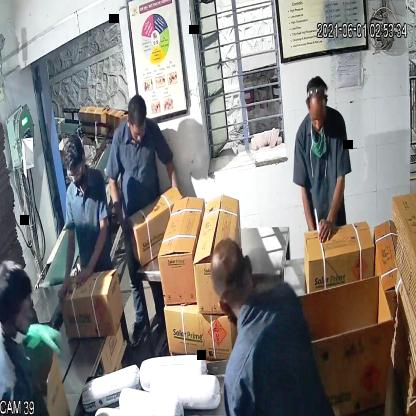goggles: (64, 159, 86, 186)
